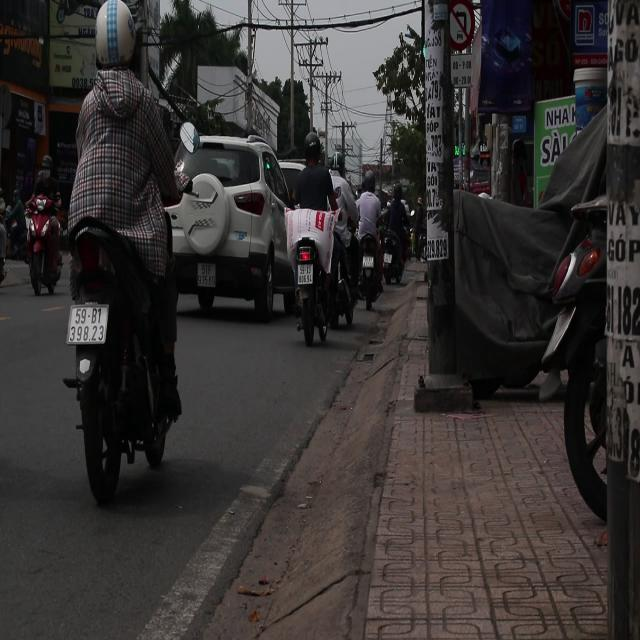car: (169, 132, 296, 322), (279, 163, 308, 206)
motorbike: (60, 216, 184, 499), (288, 209, 346, 359), (16, 164, 65, 304), (349, 200, 384, 312), (380, 216, 408, 288)
